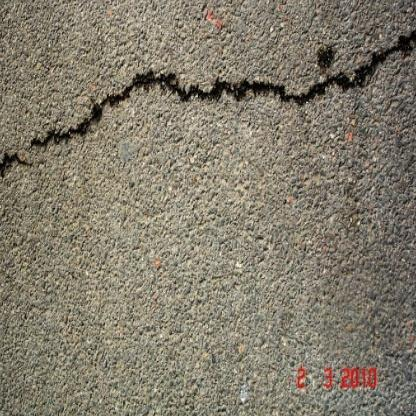Cracks: (0, 22, 416, 184)
